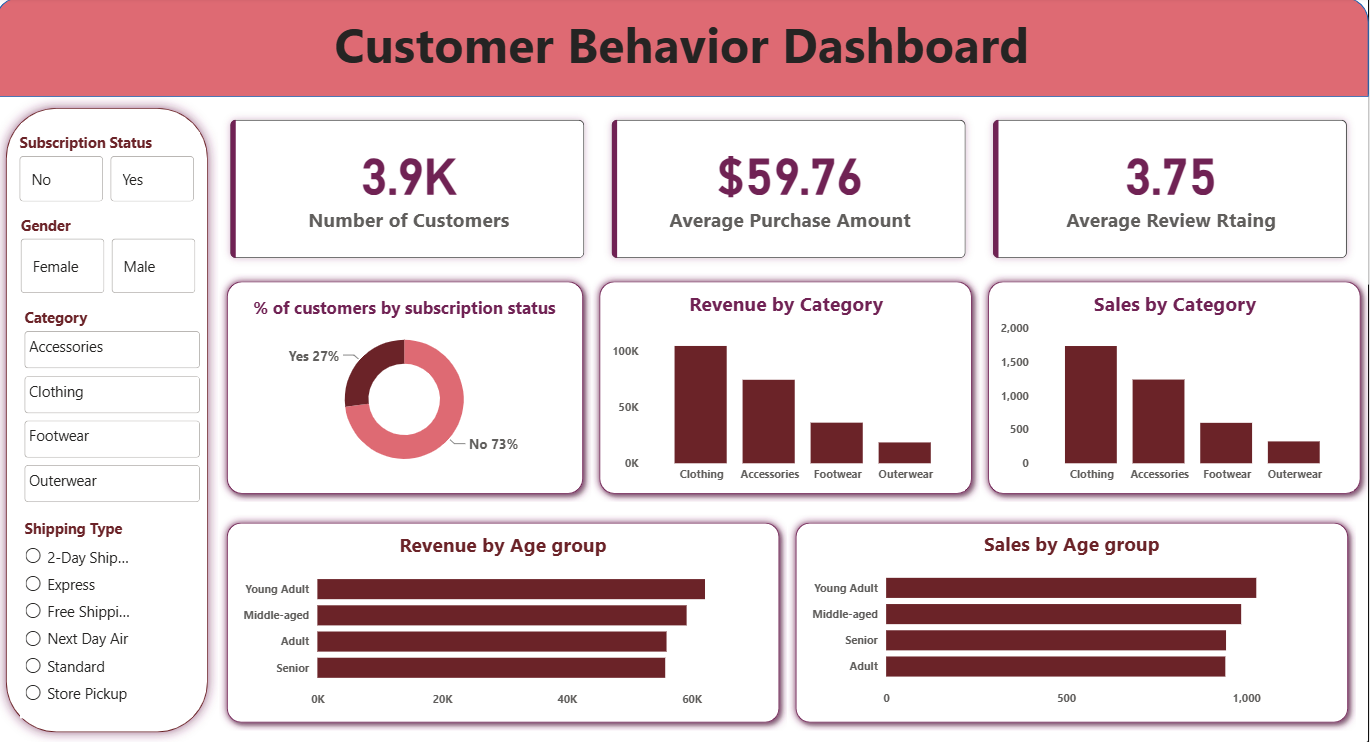

The dashboard page shown, as its layout file describes it:
{"tool":"powerbi","page":{"name":"Page 1","canvas":[1510,820],"ordinal":0},"visuals":[{"type":"cardVisual","fields":{"Data":["customer.Number of Customers","customer.Average Purchase Amount","customer.Average Review Rtaing"]},"box":[230.8,107.2,1279.2,208.8],"z":0},{"type":"shape","box":[0,0,1510,109.9],"z":1000},{"type":"textbox","box":[0,9.6,1510,138.8],"z":2000},{"type":"group","id":"g1","title":"Group 2","box":[655.4,303.7,427.3,251.4],"z":3000},{"type":"shape","box":[655.4,303.7,427.3,251.4],"z":3000,"group":"g1"},{"type":"shape","box":[1082.7,303.7,427.3,251.4],"z":3000,"group":"g3"},{"type":"shape","box":[245.9,569.2,625.2,237.7],"z":3000,"group":"g4"},{"type":"shape","box":[871.1,569.2,625.2,237.7],"z":3000,"group":"g5"},{"type":"group","id":"g2","title":"Group 1","box":[245.9,303.7,409.5,251.4],"z":4000},{"type":"shape","box":[245.9,303.7,409.5,251.4],"z":4000,"group":"g2"},{"type":"group","id":"g3","title":"Group 3","box":[1082.7,303.7,427.3,251.4],"z":5000},{"type":"clusteredColumnChart","title":"Revenue by Category","fields":{"Y":["Sum(customer.purchase_amount)"],"Category":["customer.category"]},"box":[673.3,321.6,393,221.2],"z":5000,"group":"g1"},{"type":"clusteredColumnChart","title":"Sales by Category","fields":{"Y":["CountNonNull(customer.customer_id)"],"Category":["customer.category"]},"box":[1100.6,321.6,393,221.2],"z":5000,"group":"g3"},{"type":"shape","box":[0,109.9,245.9,710.4],"z":6000},{"type":"donutChart","title":"% of customers by subscription status","fields":{"Category":["customer.subscription_status"],"Y":["CountNonNull(customer.customer_id)"]},"box":[258.3,328.4,383.3,203.4],"z":6001,"group":"g2"},{"type":"advancedSlicerVisual","title":"Subscription Status","fields":{"Values":["customer.subscription_status"]},"box":[22,148.4,203.4,82.4],"z":7000},{"type":"advancedSlicerVisual","title":"Gender","fields":{"Values":["customer.gender"]},"box":[23.4,239.1,203.4,92.1],"z":8000},{"type":"advancedSlicerVisual","title":"Category","fields":{"Values":["customer.category"]},"box":[27.5,340.8,203.4,221.2],"z":9000},{"type":"listSlicer","title":"Shipping Type","fields":{"Values":["customer.shipping_type"]},"box":[27.5,573,145.6,219.8],"z":10000},{"type":"group","id":"g4","title":"Group 2","box":[245.9,569.2,625.2,237.7],"z":11000},{"type":"clusteredBarChart","title":"Revenue by Age group","fields":{"Y":["Sum(customer.purchase_amount)"],"Category":["customer.age_group"]},"box":[266.6,586.7,584,203.4],"z":12000},{"type":"group","id":"g5","title":"Group 2","box":[871.1,569.2,625.2,237.7],"z":12001},{"type":"clusteredBarChart","title":"Sales by Age group","fields":{"Y":["CountNonNull(customer.customer_id)"],"Category":["customer.age_group"]},"box":[891.7,585.3,584,203.4],"z":12002}]}

Visuals, with their boxes in screenshot pixels (x1, y1, x2, y2), scaled from the page's 1510x820 canvas onto the 1370x742 screenshot:
cardVisual - customer.Number of Customers x customer.Average Purchase Amount: (209,97,1369,286)
shape: (0,0,1369,99)
textbox: (0,9,1369,134)
"Group 2" group: (595,275,982,502)
shape: (595,275,982,502)
shape: (982,275,1369,502)
shape: (223,515,790,730)
shape: (790,515,1358,730)
"Group 1" group: (223,275,595,502)
shape: (223,275,595,502)
"Group 3" group: (982,275,1369,502)
"Revenue by Category" clusteredColumnChart: (611,291,967,491)
"Sales by Category" clusteredColumnChart: (999,291,1355,491)
shape: (0,99,223,741)
"% of customers by subscription status" donutChart: (234,297,582,481)
"Subscription Status" advancedSlicerVisual: (20,134,205,209)
"Gender" advancedSlicerVisual: (21,216,206,300)
"Category" advancedSlicerVisual: (25,308,209,509)
"Shipping Type" listSlicer: (25,518,157,717)
"Group 2" group: (223,515,790,730)
"Revenue by Age group" clusteredBarChart: (242,531,772,715)
"Group 2" group: (790,515,1358,730)
"Sales by Age group" clusteredBarChart: (809,530,1339,714)
